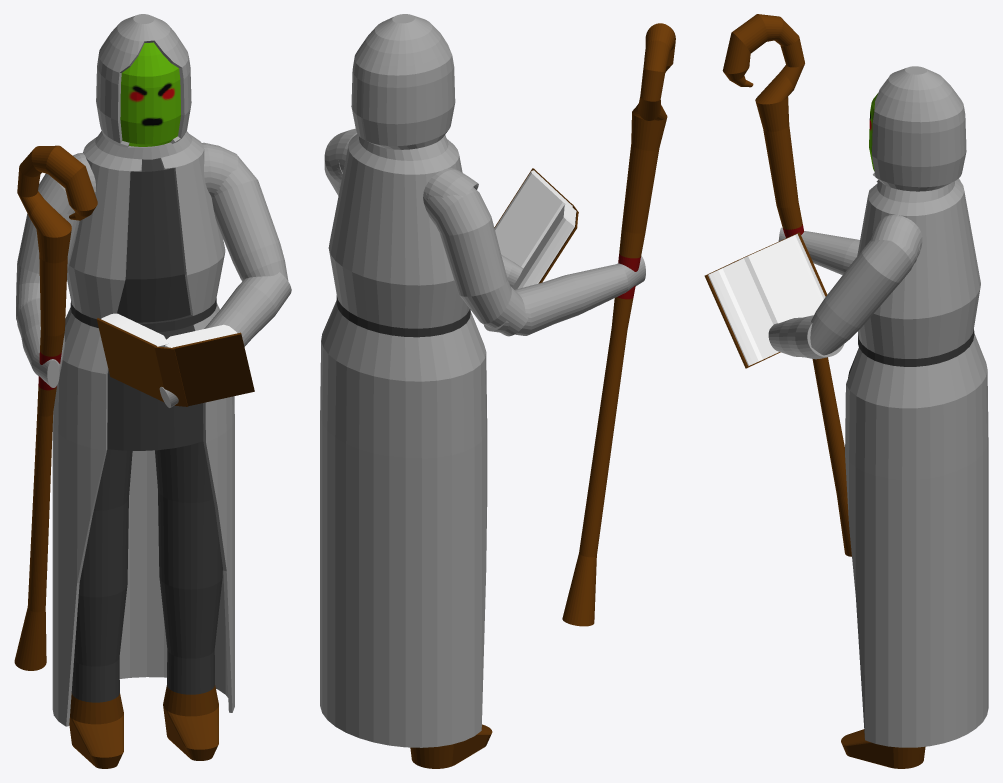
Rendered from ОркМаг0.fbx.
3 views of the same model, side by side, from view 1: azimuth 30°, elevation 25°; view 2: azimuth 150°, elevation 25°; view 3: azimuth 270°, elevation 25° (orthographic). The views are drawn at different scales.
Visible parts, largest first — view 1: Цилиндр.216, Цилиндр.220, Цилиндр.217, Цилиндр.228, Цилиндр.225, Цилиндр.227, Цилиндр.226, Цилиндр.224, Куб.045, Цилиндр.223, Куб.069, Цилиндр.222 (+5 smaller); view 2: Цилиндр.216, Цилиндр.217, Цилиндр.222, Цилиндр.221, Куб.042, Куб.043, Цилиндр.225, Цилиндр.219, Цилиндр.218; view 3: Цилиндр.216, Цилиндр.217, Цилиндр.224, Куб.043, Куб.042, Цилиндр.228, Цилиндр.221, Цилиндр.223, Цилиндр.218, Куб.045.
Boxes of the visible parts, <box> form: Цилиндр.216: <box>52,14,234,726</box>; Цилиндр.220: <box>107,42,203,450</box>; Цилиндр.217: <box>14,145,97,670</box>; Цилиндр.228: <box>159,577,222,760</box>; Цилиндр.225: <box>69,584,127,768</box>; Цилиндр.227: <box>155,441,222,589</box>; Цилиндр.226: <box>78,449,132,597</box>; Цилиндр.224: <box>212,154,288,281</box>; Куб.045: <box>172,332,254,406</box>; Цилиндр.223: <box>159,272,291,407</box>; Куб.069: <box>96,318,164,402</box>; Цилиндр.222: <box>16,173,79,320</box>; Цилиндр.216: <box>320,14,487,747</box>; Цилиндр.217: <box>562,23,675,626</box>; Цилиндр.222: <box>423,187,528,336</box>; Цилиндр.221: <box>483,256,645,335</box>; Куб.042: <box>494,170,572,268</box>; Куб.043: <box>512,204,576,289</box>; Цилиндр.225: <box>410,724,492,768</box>; Цилиндр.219: <box>423,168,478,199</box>; Цилиндр.218: <box>328,128,357,179</box>; Цилиндр.216: <box>845,66,988,747</box>; Цилиндр.217: <box>722,14,851,556</box>; Цилиндр.224: <box>810,240,920,355</box>; Куб.043: <box>740,234,825,324</box>; Куб.042: <box>708,258,778,365</box>; Цилиндр.228: <box>841,729,925,768</box>; Цилиндр.221: <box>778,227,859,274</box>; Цилиндр.223: <box>768,315,844,359</box>; Цилиндр.218: <box>870,215,922,262</box>; Куб.045: <box>704,262,774,368</box>.
Bounding box in the file's own units: 47.5 × 114 × 43.67.
